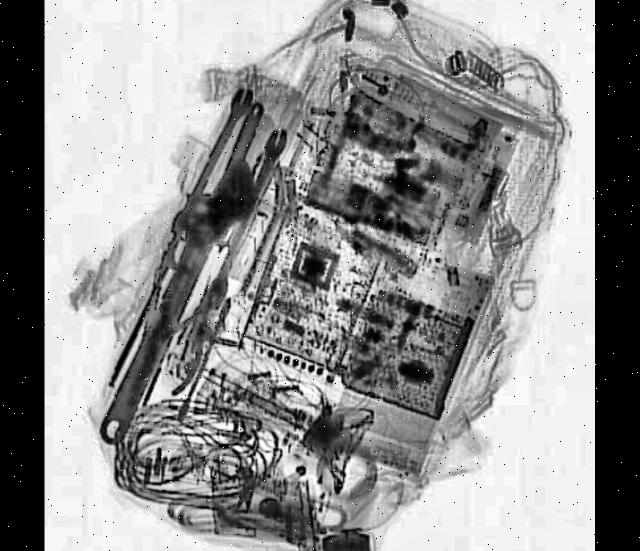Pliers: (144, 262, 240, 404)
Wrench: (96, 226, 218, 453), (172, 82, 258, 242), (219, 122, 292, 262)
